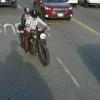Motorcycle: (12, 13, 69, 69)
